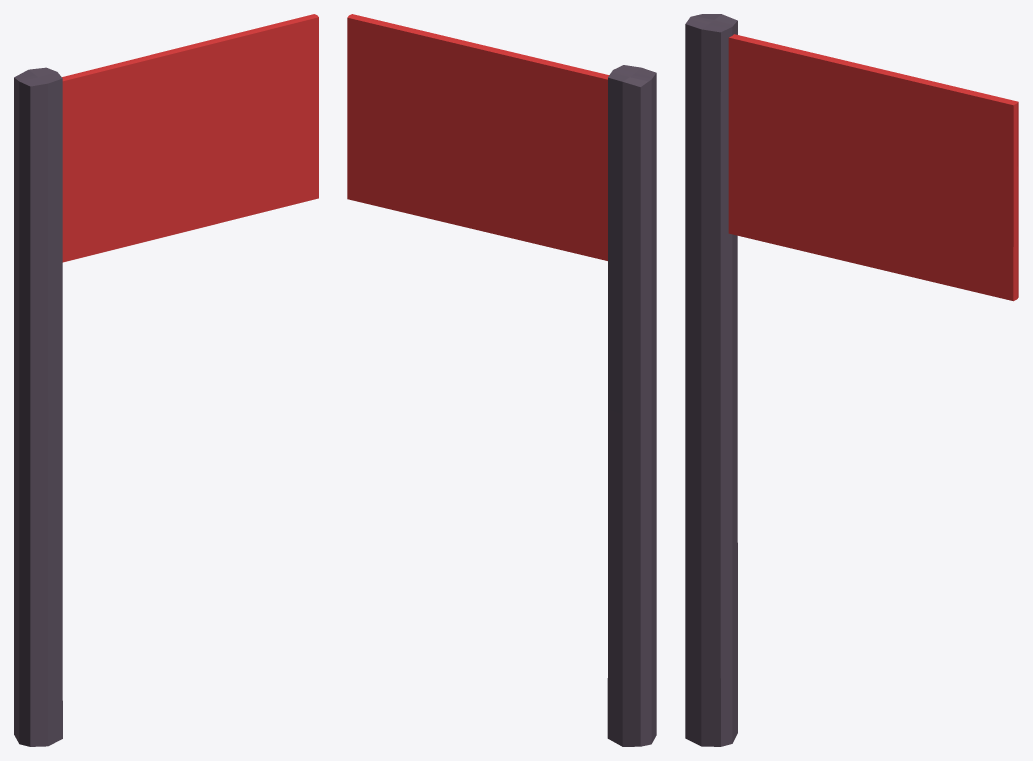
File: BanderaRojaProyecto (2).fbx
3 renders of one model, left to right at view 1: azimuth 30°, elevation 25°; view 2: azimuth 150°, elevation 25°; view 3: azimuth 330°, elevation 25°, orthographic. The views are drawn at different scales.
Visible parts, largest first — view 1: Cube.001; view 2: Cube.001; view 3: Cube.001.
Part boxes in pixels (box(x1,y1,x2,y2)): Cube.001: box(14, 14, 318, 746); Cube.001: box(347, 14, 656, 746); Cube.001: box(685, 14, 1018, 746).
Size of the model in its own units: 180 by 380 by 20.
